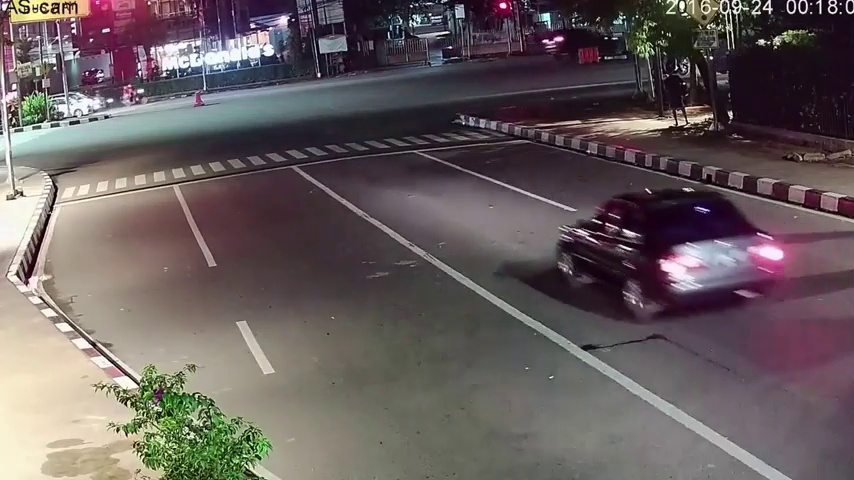car: (559, 185, 782, 321)
